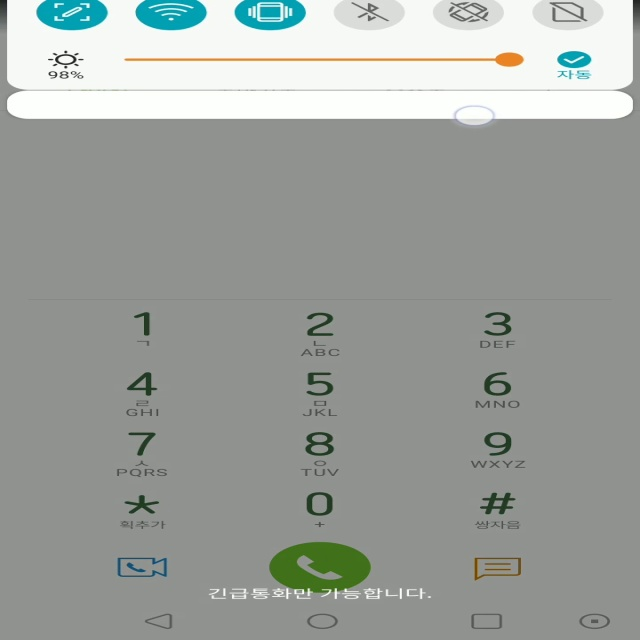Cursor: (454, 105, 498, 128)
